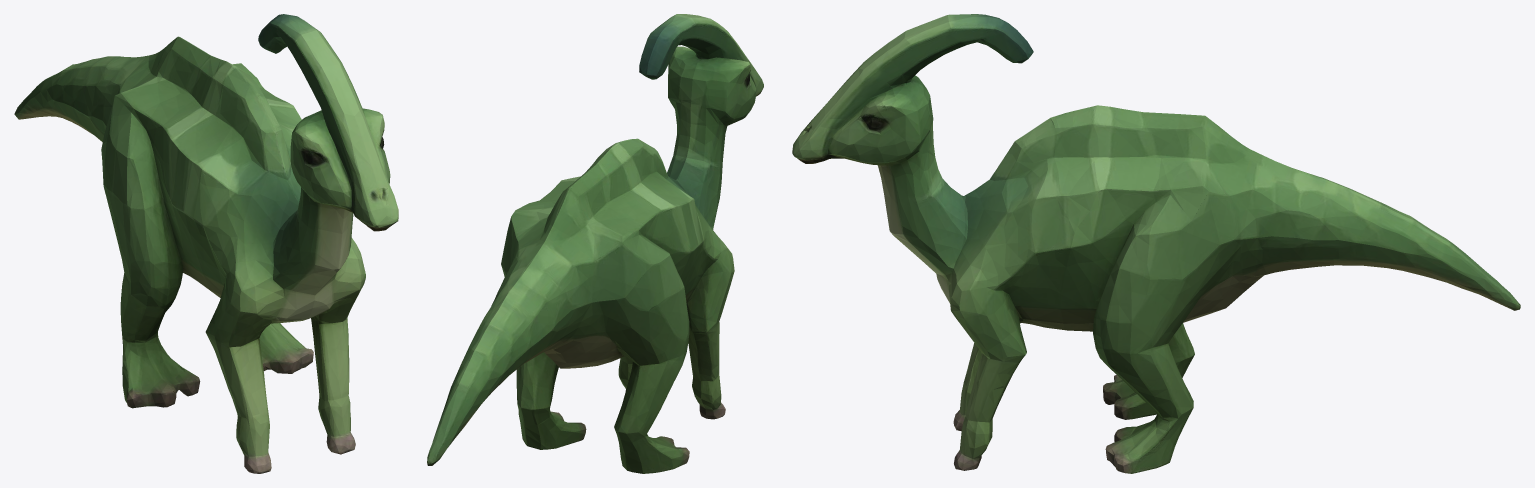
File: parasaurolophus.glb
The picture shows the model from 3 angles, left to right: view 1: azimuth 30°, elevation 25°; view 2: azimuth 150°, elevation 25°; view 3: azimuth 270°, elevation 25°; orthographic projection. The views are drawn at different scales.
Parts seen in each view (by area): view 1: geometry_0; view 2: geometry_0; view 3: geometry_0.
Boxes of the visible parts, x1=… form: geometry_0: x1=14, y1=14, x2=398, y2=473; geometry_0: x1=427, y1=14, x2=763, y2=473; geometry_0: x1=792, y1=14, x2=1520, y2=473.
Size of the model in its own units: 0.2934 by 0.6513 by 0.9992.
1 material, 1 textured.
